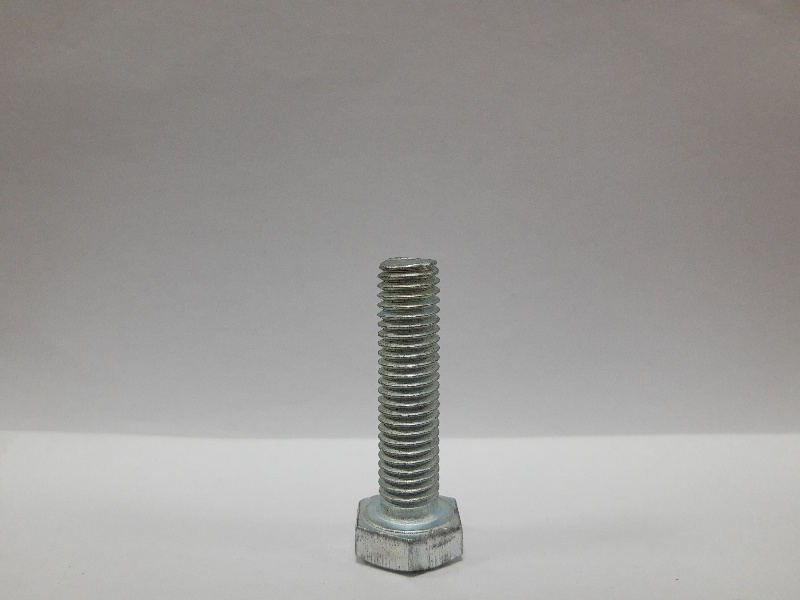pf: (345, 252, 470, 579)
